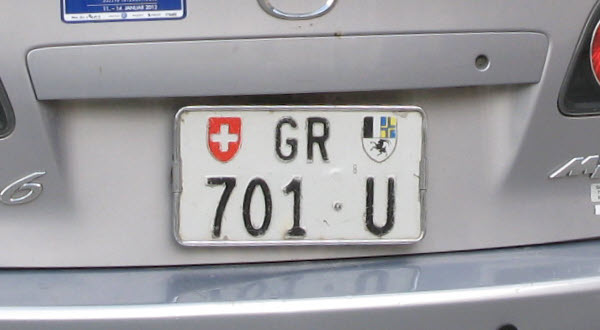license_plate: (173, 104, 426, 246)
